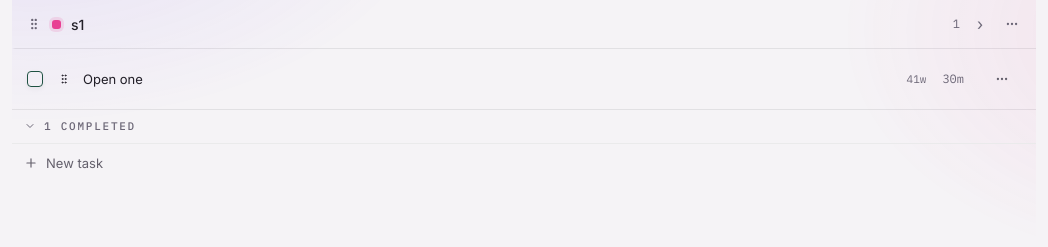
Test: SubcategorySection — 30-day completions (chunk 86) › counts and lists only recent completions in the expander
Click the button "1 completed".
click(90, 126)  # box [12,109,1036,142]
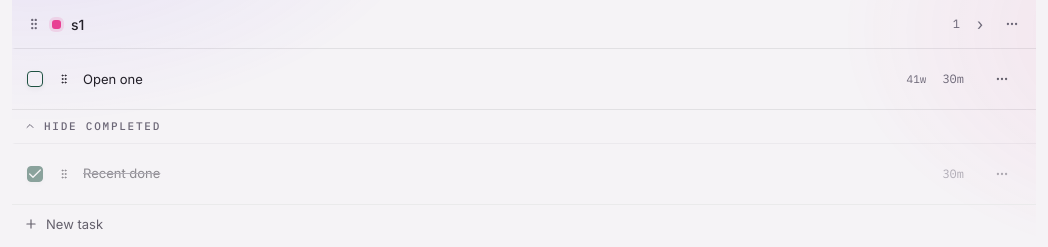
Result: the text "Recent done" is shown at [83,165,160,181]
